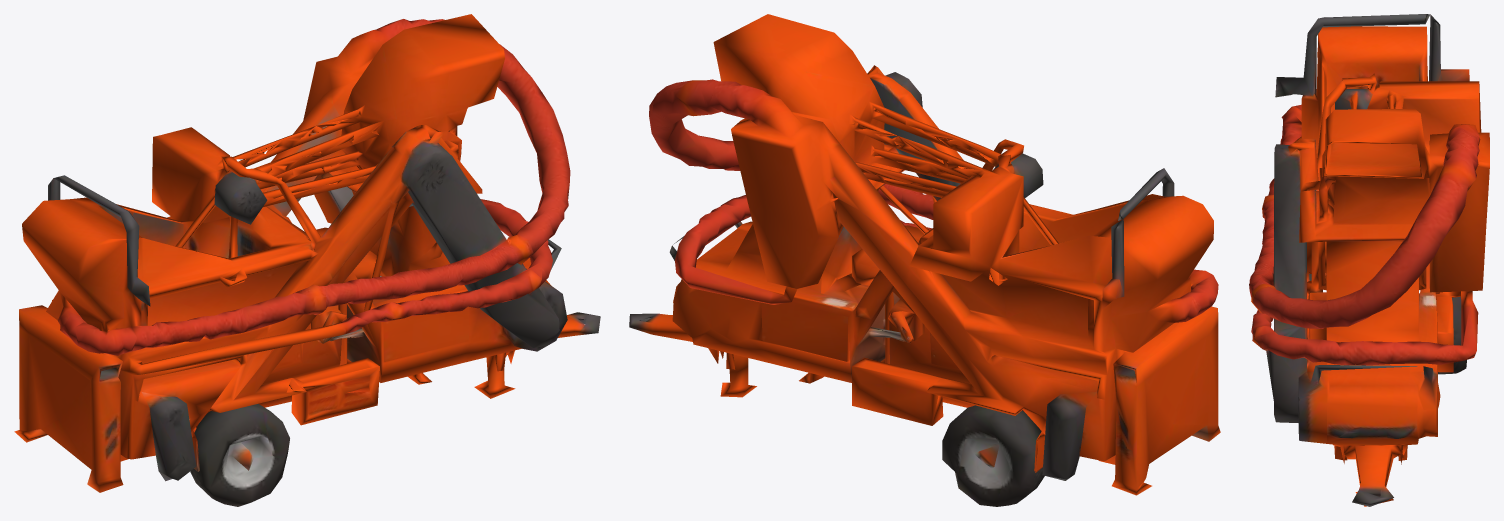
Rendered from patos.glb.
3 renders of one model, left to right at view 1: azimuth 30°, elevation 25°; view 2: azimuth 150°, elevation 25°; view 3: azimuth 270°, elevation 25°, orthographic. The views are drawn at different scales.
Visible parts, largest first — view 1: tripo_node_b495635b-7634-4e86-94fd-2c6a8d4087c0; view 2: tripo_node_b495635b-7634-4e86-94fd-2c6a8d4087c0; view 3: tripo_node_b495635b-7634-4e86-94fd-2c6a8d4087c0.
Part boxes in pixels (<box>): tripo_node_b495635b-7634-4e86-94fd-2c6a8d4087c0: <box>14,14,600,506</box>; tripo_node_b495635b-7634-4e86-94fd-2c6a8d4087c0: <box>629,14,1220,506</box>; tripo_node_b495635b-7634-4e86-94fd-2c6a8d4087c0: <box>1249,14,1489,506</box>.
Size of the model in its own units: 0.9833 by 0.6331 by 0.3778.
1 material, 1 textured.
